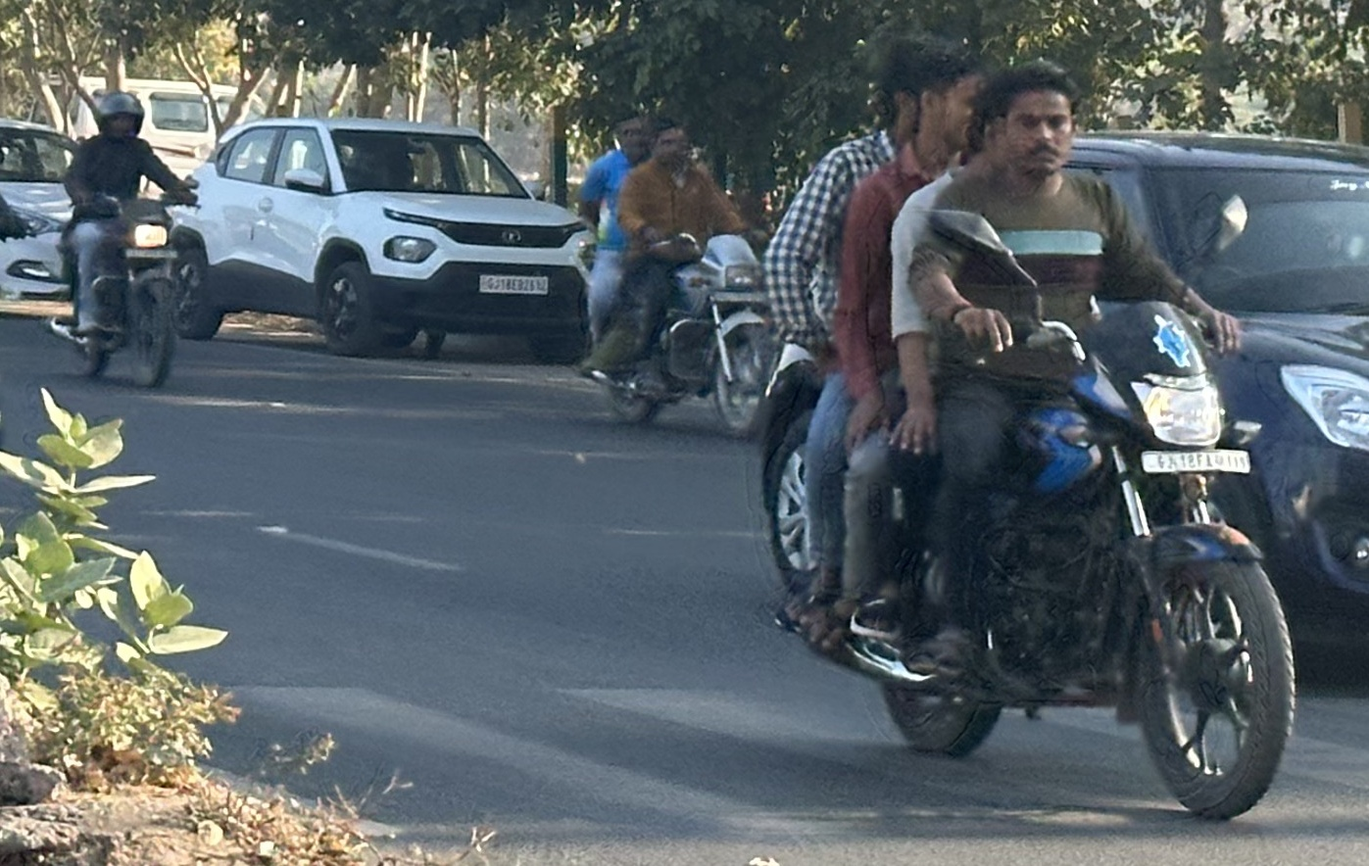BikeWithRider: (764, 36, 1300, 823), (573, 101, 781, 445), (45, 84, 199, 402)
Helmet: (84, 84, 150, 149)
NoHelmet: (989, 61, 1085, 180), (908, 43, 1002, 149), (869, 36, 934, 134), (643, 111, 698, 175), (611, 108, 653, 159)
